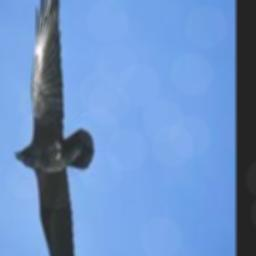Crow: (14, 0, 94, 256)
